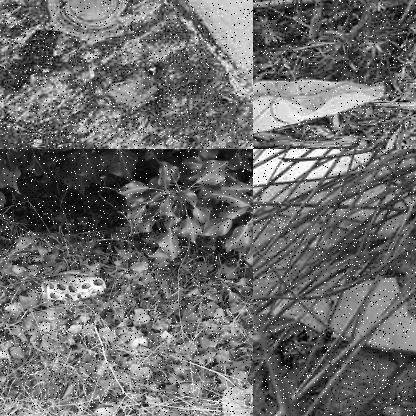plastic: (262, 278, 415, 363), (253, 81, 388, 132), (46, 0, 128, 38), (42, 275, 108, 303)
